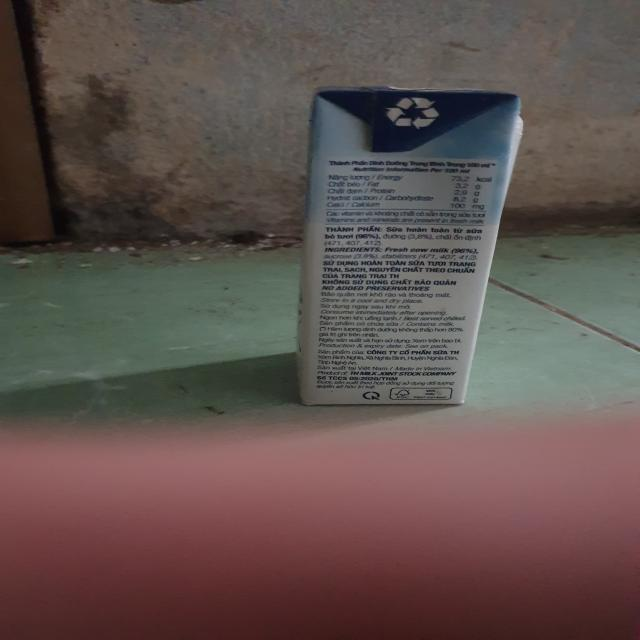TH: (292, 83, 533, 413)
